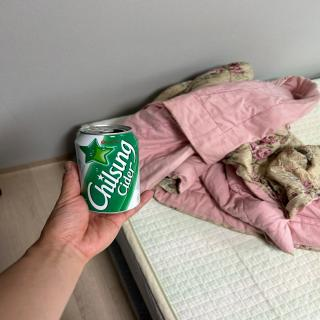cocacola: (69, 122, 143, 218)
